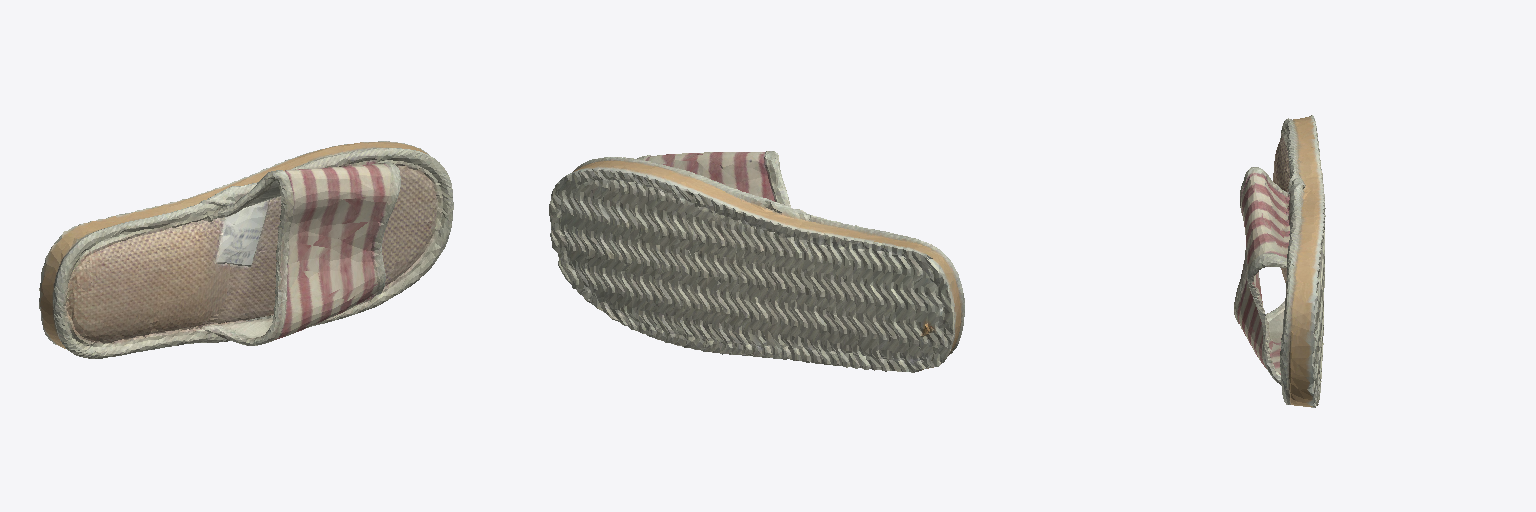
The picture shows the model from 3 angles: view 1: azimuth 30°, elevation 25°; view 2: azimuth 150°, elevation 25°; view 3: azimuth 270°, elevation 25°; orthographic projection.
Size of the model in its own units: 263 by 115 by 51.94.
1 materials, 1 textured.